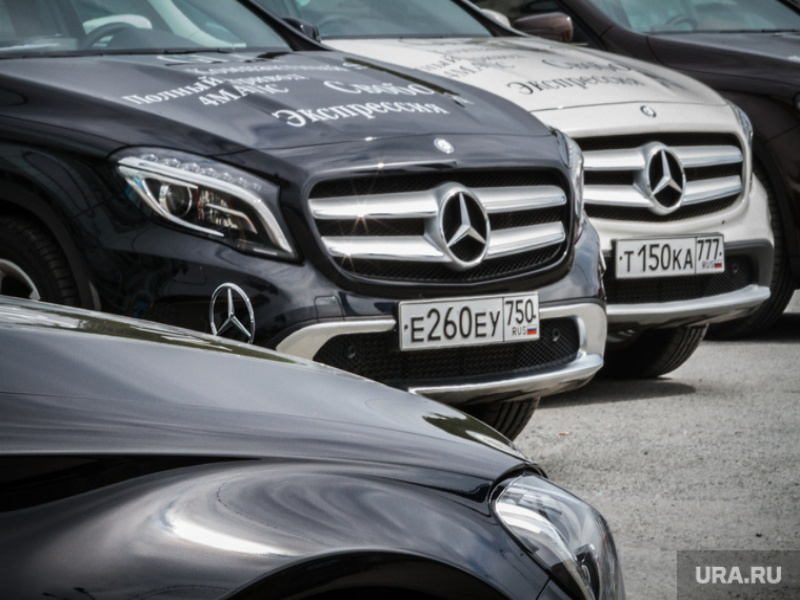car: (1, 1, 607, 440), (253, 1, 776, 378), (1, 293, 625, 600), (473, 1, 800, 339)
plate: (398, 291, 539, 350), (614, 235, 724, 278)
